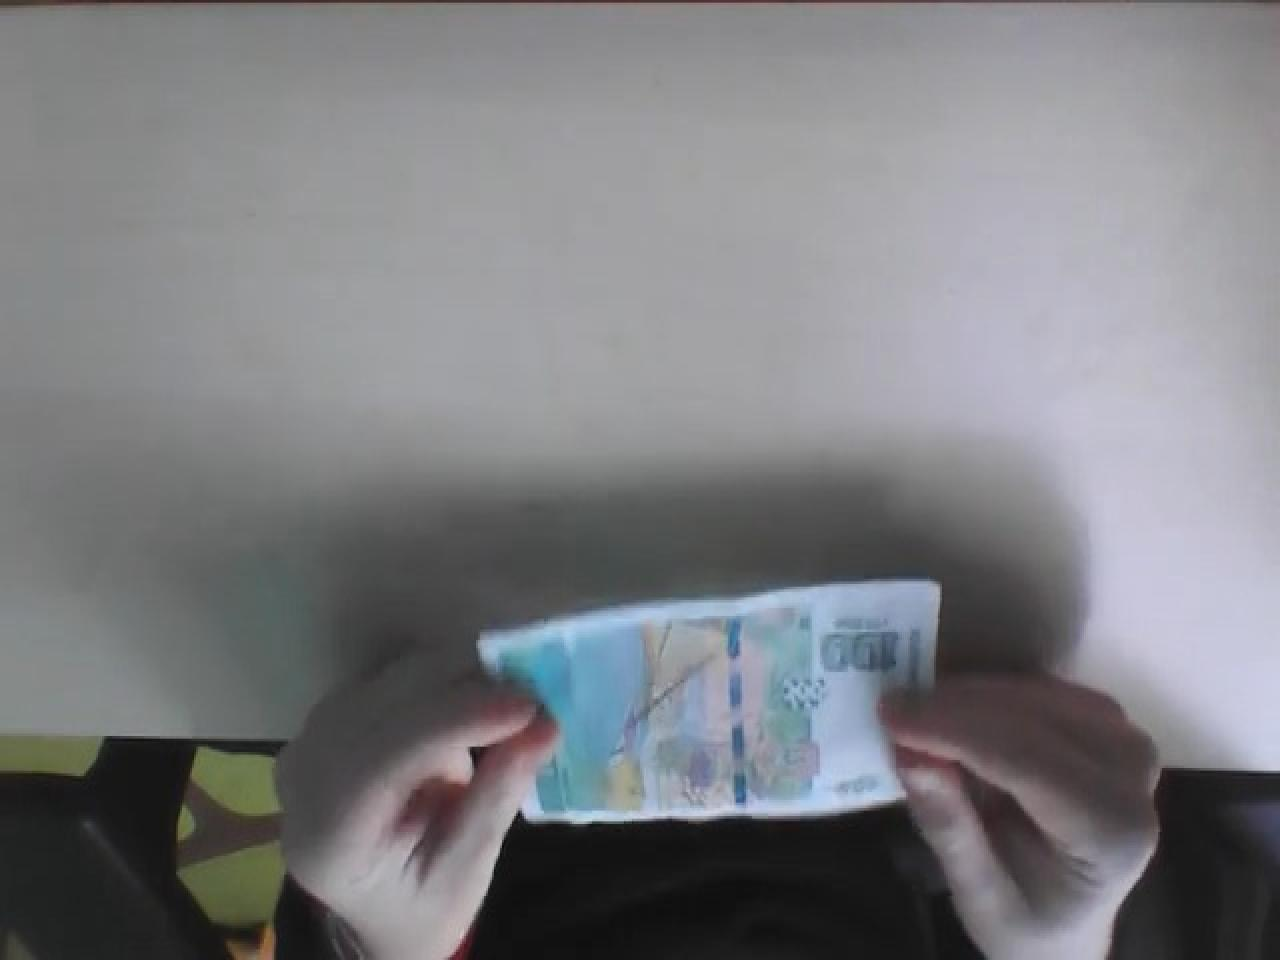100leva: (476, 576, 944, 829)
